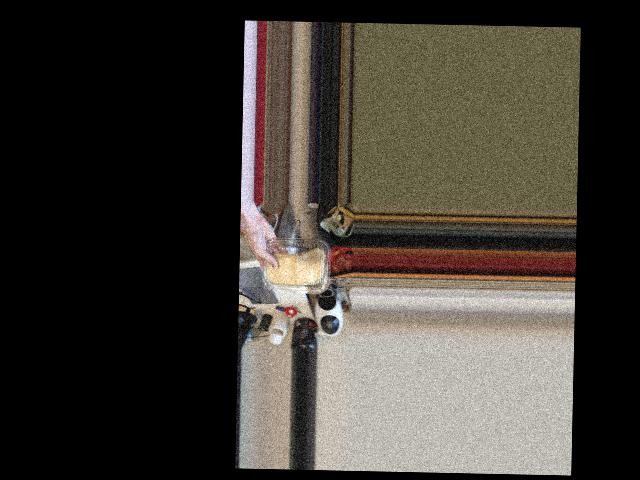cheese: (264, 234, 325, 299)
